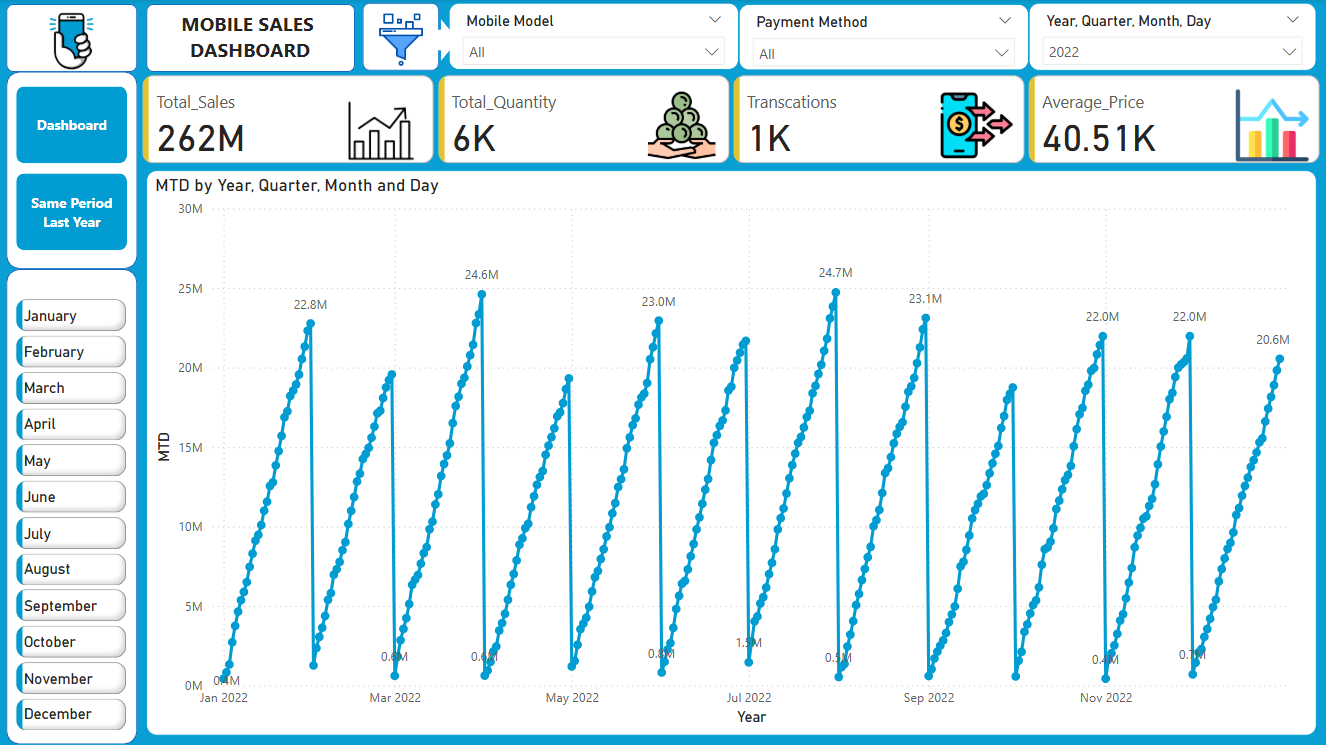

The dashboard page shown, as its layout file describes it:
{"tool":"powerbi","page":{"name":"MTD Report","canvas":[1280,720],"ordinal":1},"visuals":[{"type":"shape","box":[6,4.8,126.4,65.6],"z":0},{"type":"image","box":[27.4,0,82.2,81.1],"z":1000},{"type":"shape","box":[6,70,126.7,190.6],"z":2000},{"type":"cardVisual","fields":{"Data":["Mobile_Sales_Data.Total_Sales","Mobile_Sales_Data.Total_Quantity","Mobile_Sales_Data.Transcations","Mobile_Sales_Data.Average_Price"]},"box":[132.3,69.1,1147.9,95.4],"z":3000},{"type":"slicer","fields":{"Values":["Mobile_Sales_Data.Mobile Model"]},"box":[433,4,280,65],"z":4000},{"type":"slicer","fields":{"Values":["Mobile_Sales_Data.Payment Method"]},"box":[713,5,280,64],"z":5000},{"type":"slicer","fields":{"Values":["Custom_Calendar.Date.Variation.Date Hierarchy.Year","Custom_Calendar.Date.Variation.Date Hierarchy.Quarter","Custom_Calendar.Date.Variation.Date Hierarchy.Month","Custom_Calendar.Date.Variation.Date Hierarchy.Day"]},"box":[993,3.6,277.7,65.6],"z":6000},{"type":"shape","box":[350.5,3.6,73.9,65.6],"z":7000},{"type":"image","box":[355.2,8.3,64.4,62],"z":8000},{"type":"shape","box":[408.9,19.1,33.4,40.5],"z":9000},{"type":"shape","box":[140.7,4.8,201.5,65.6],"z":10000},{"type":"textbox","box":[155,6,174,60.8],"z":11000},{"type":"lineChart","fields":{"Y":["Mobile_Sales_Data.MTD"],"Category":["Custom_Calendar.Date.Variation.Date Hierarchy.Year","Custom_Calendar.Date.Variation.Date Hierarchy.Quarter","Custom_Calendar.Date.Variation.Date Hierarchy.Month","Custom_Calendar.Date.Variation.Date Hierarchy.Day"]},"box":[141.2,165.3,1129.2,545.3],"z":12000},{"type":"shape","box":[6,261.1,126.4,458.9],"z":13000},{"type":"advancedSlicerVisual","fields":{"Values":["Custom_Calendar.Date.Variation.Date Hierarchy.Month"]},"box":[10.7,284.9,116.8,435.1],"z":14000},{"type":"pageNavigator","box":[15.7,84.5,107.4,159.3],"z":14001}]}

Visuals, with their boxes in screenshot pixels (x1, y1, x2, y2), scaled from the page's 1280x720 canvas onto the 1326x745 screenshot:
shape: <region>6, 5, 137, 73</region>
image: <region>28, 0, 114, 84</region>
shape: <region>6, 72, 137, 270</region>
cardVisual - Mobile_Sales_Data.Total_Sales x Mobile_Sales_Data.Total_Quantity: <region>137, 71, 1325, 170</region>
slicer - Mobile_Sales_Data.Mobile Model: <region>449, 4, 739, 71</region>
slicer - Mobile_Sales_Data.Payment Method: <region>739, 5, 1029, 71</region>
slicer - Custom_Calendar.Date.Variation.Date Hierarchy.Year x Custom_Calendar.Date.Variation.Date Hierarchy.Quarter: <region>1029, 4, 1316, 72</region>
shape: <region>363, 4, 440, 72</region>
image: <region>368, 9, 435, 73</region>
shape: <region>424, 20, 458, 62</region>
shape: <region>146, 5, 354, 73</region>
textbox: <region>161, 6, 341, 69</region>
lineChart - Mobile_Sales_Data.MTD x Custom_Calendar.Date.Variation.Date Hierarchy.Year: <region>146, 171, 1316, 735</region>
shape: <region>6, 270, 137, 744</region>
advancedSlicerVisual - Custom_Calendar.Date.Variation.Date Hierarchy.Month: <region>11, 295, 132, 744</region>
pageNavigator: <region>16, 87, 128, 252</region>
